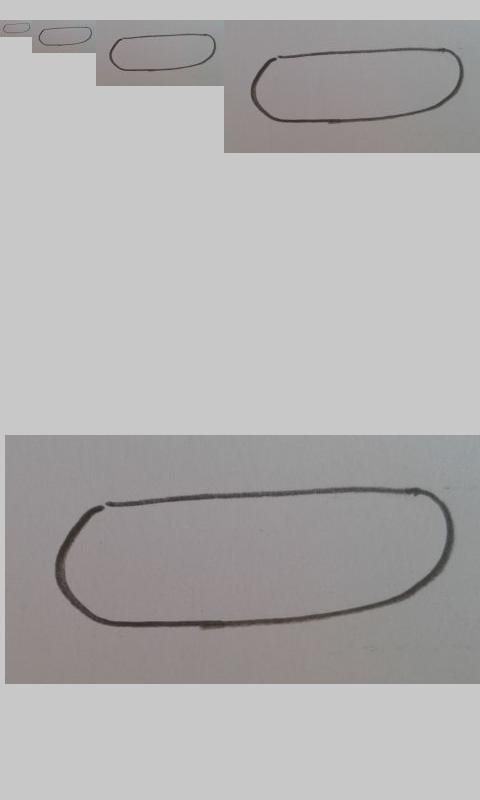chip: (53, 486, 458, 631), (250, 47, 465, 125), (109, 33, 217, 72), (38, 26, 93, 47), (2, 22, 31, 34)
